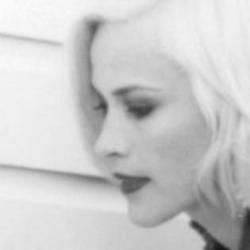face: (62, 2, 250, 245)
